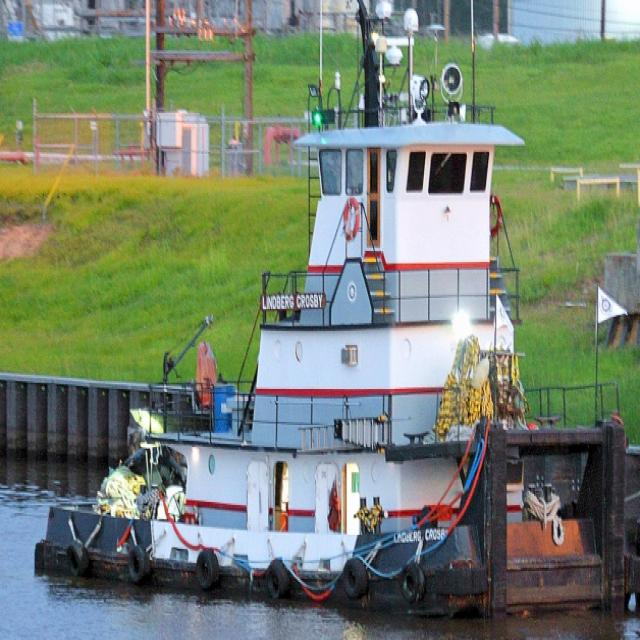tugboat: (30, 1, 636, 638)
